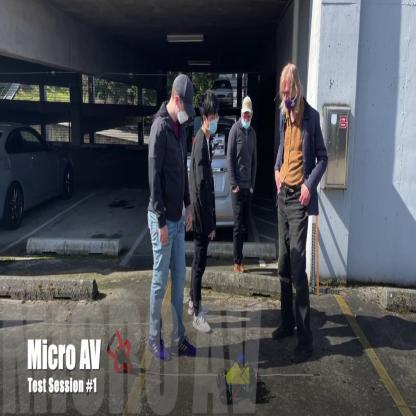mushr_car: (215, 354, 276, 406)
